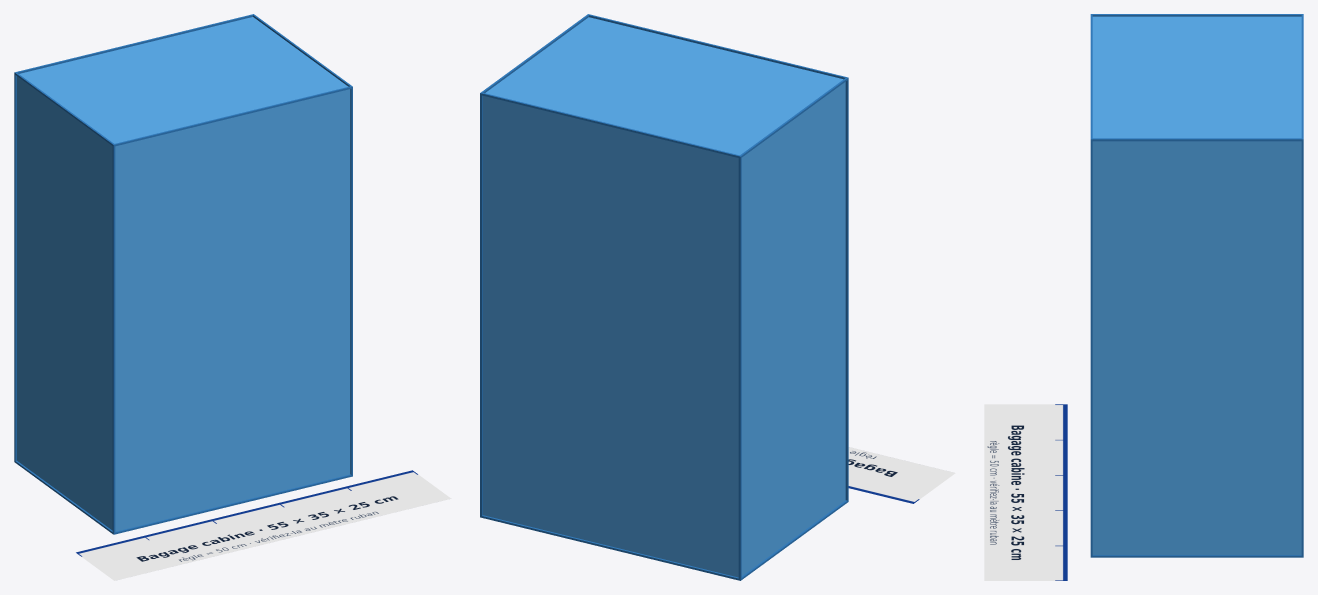
Rendered from gabarit-cabine-v4.glb.
3 views of the same model, side by side, from view 1: azimuth 30°, elevation 25°; view 2: azimuth 150°, elevation 25°; view 3: azimuth 270°, elevation 25° (orthographic). The views are drawn at different scales.
Visible parts, largest first — view 1: volume, etiquette, aretes; view 2: volume, aretes, etiquette; view 3: volume, etiquette, aretes.
Boxes of the visible parts, bbox=[...] form: volume: bbox=[17, 17, 350, 531]; etiquette: bbox=[76, 470, 451, 580]; aretes: bbox=[14, 14, 352, 534]; volume: bbox=[483, 17, 845, 577]; aretes: bbox=[480, 14, 848, 580]; etiquette: bbox=[848, 447, 955, 503]; volume: bbox=[1092, 16, 1301, 554]; etiquette: bbox=[984, 404, 1067, 580]; aretes: bbox=[1090, 14, 1303, 557].
Bounding box in the file's own units: 0.5 × 0.5525 × 0.3825.
Materials: 4 (1 with a texture image).
